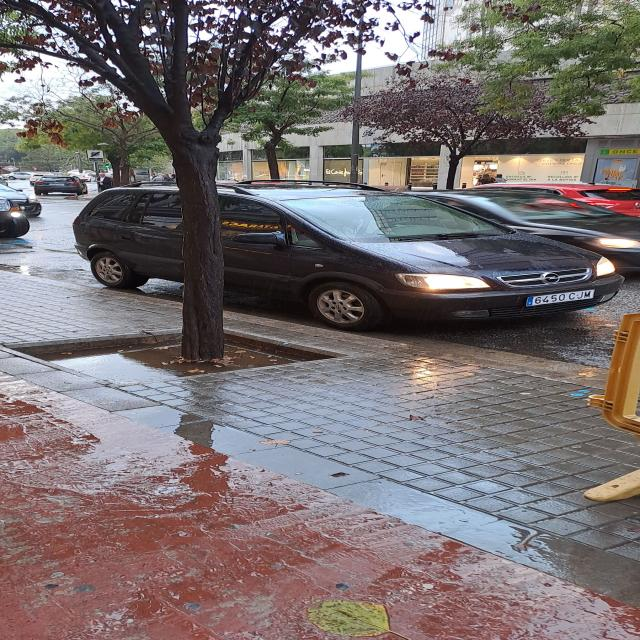license_plate-34Td: (526, 289, 594, 307)
